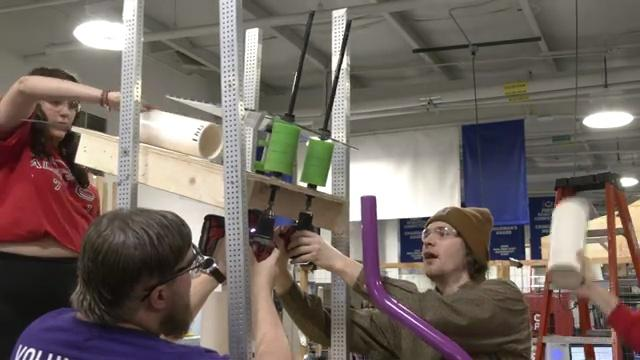CORAL: (545, 194, 595, 289), (140, 109, 224, 159)
